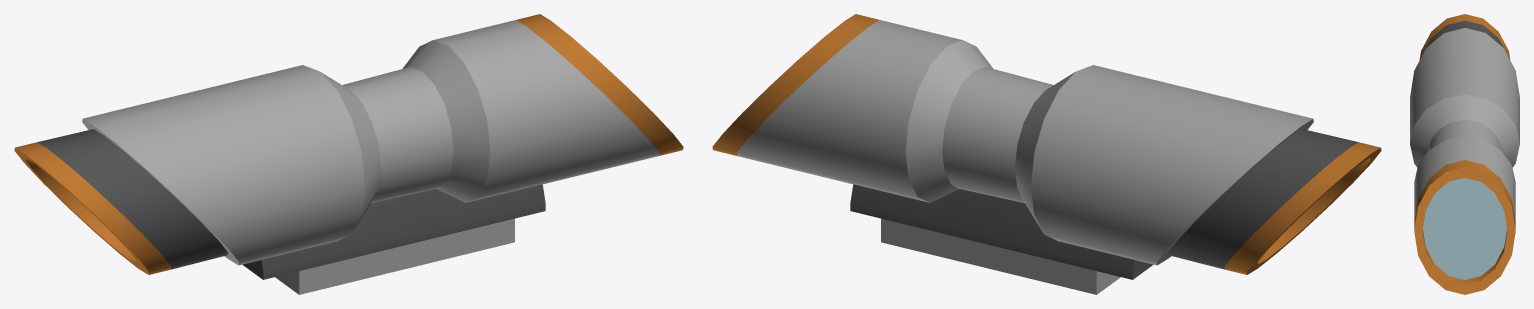
The model's file is quaternius-modular-sci-fi-guns-scope-1.glb.
3 renders of one model, left to right at view 1: azimuth 30°, elevation 25°; view 2: azimuth 150°, elevation 25°; view 3: azimuth 270°, elevation 25°, orthographic. The views are drawn at different scales.
Parts seen in each view (by area): view 1: Scope_1; view 2: Scope_1; view 3: Scope_1.
Part boxes in pixels (x1,y1,x2,y2): Scope_1: (14,14,683,294); Scope_1: (712,14,1381,294); Scope_1: (1410,14,1519,294).
Size of the model in its own units: 0.5103 by 0.1544 by 0.1235.
